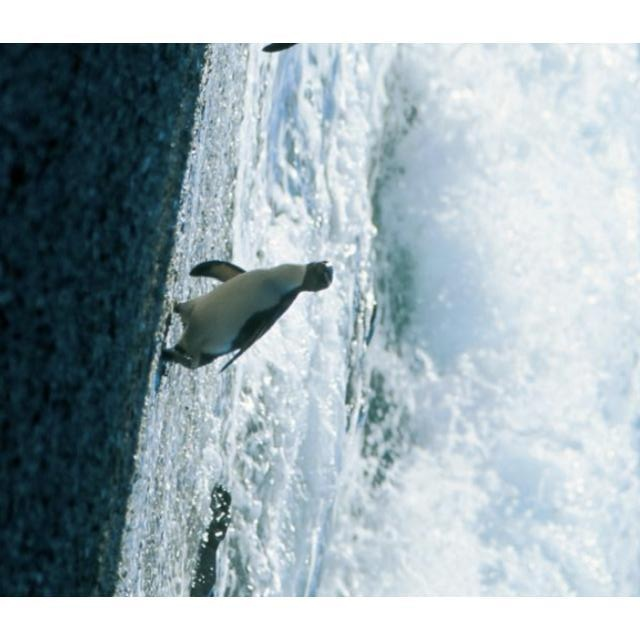penguin: (158, 260, 334, 374)
